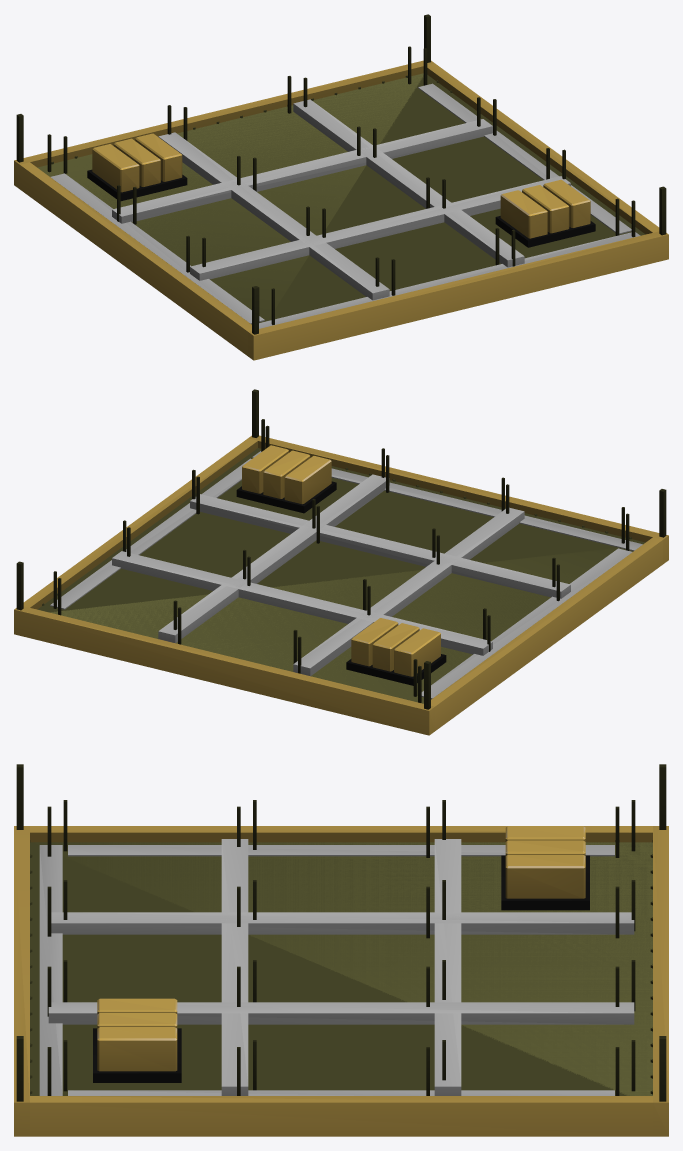
Rendered from meridian_advanced_defences_foundation.glb.
3 views of the same model, one above another, from view 1: azimuth 30°, elevation 25°; view 2: azimuth 150°, elevation 25°; view 3: azimuth 270°, elevation 25° (orthographic). The views are drawn at different scales.
Parts seen in each view (by area): view 1: body (×3); view 2: body (×3); view 3: body (×3).
Part boxes in pixels (bbox=[...]): body (×3): bbox=[14, 14, 668, 360]; body (×3): bbox=[14, 389, 668, 735]; body (×3): bbox=[14, 764, 668, 1136].
Size of the model in its own units: 7.38 by 1.2 by 7.38.
